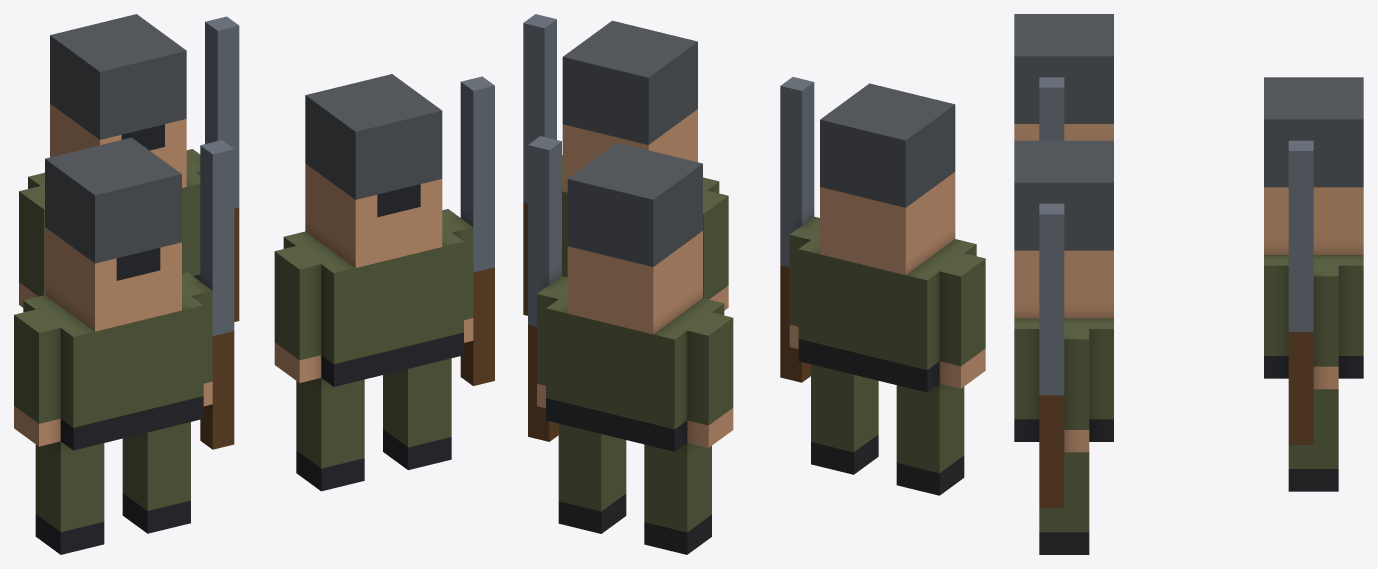
File: u_mech.glb
3 renders of one model, left to right at view 1: azimuth 30°, elevation 25°; view 2: azimuth 150°, elevation 25°; view 3: azimuth 270°, elevation 25°, orthographic.
Visible parts, largest first — view 1: u_mech_body; view 2: u_mech_body; view 3: u_mech_body.
Boxes of the visible parts, bbox=[...] form: u_mech_body: bbox=[14, 14, 494, 554]; u_mech_body: bbox=[523, 14, 985, 554]; u_mech_body: bbox=[1014, 14, 1363, 554].
Bounding box in the file's own units: 1.31 × 1 × 0.875.
Materials: 1 (1 with a texture image).
